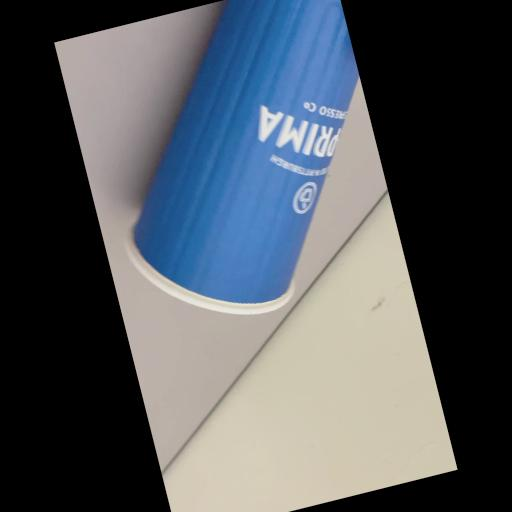lp_paper_cup: (77, 0, 408, 340)
